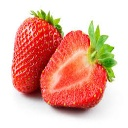strawberry: (39, 30, 118, 109), (12, 8, 64, 95)
